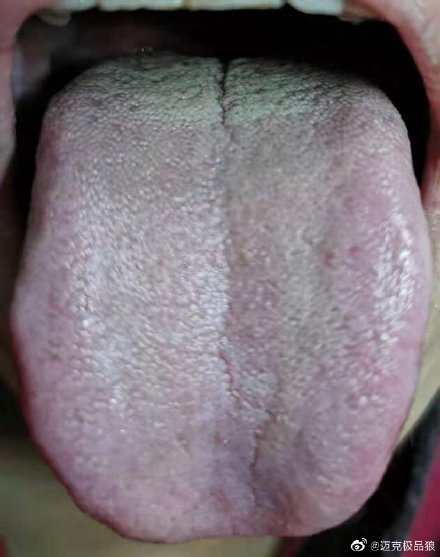baitaishe: (10, 52, 431, 545)
liewenshe: (211, 57, 237, 129)
